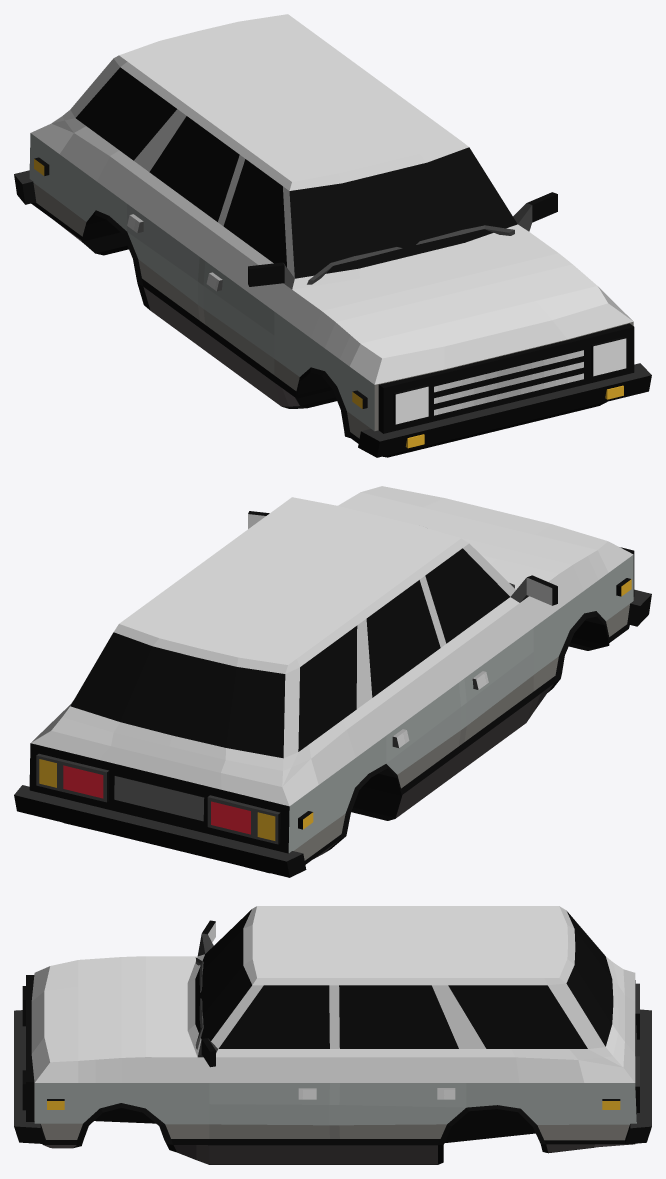
File: StationWagon.fbx
3 renders of one model, top to bottom at view 1: azimuth 30°, elevation 25°; view 2: azimuth 150°, elevation 25°; view 3: azimuth 270°, elevation 25°, orthographic. The views are drawn at different scales.
Parts seen in each view (by area): view 1: StationWagon; view 2: StationWagon; view 3: StationWagon.
Boxes of the visible parts, x1=… form: StationWagon: x1=14, y1=14, x2=651, y2=457; StationWagon: x1=14, y1=486, x2=651, y2=877; StationWagon: x1=14, y1=906, x2=651, y2=1164.
Bounding box in the file's own units: 1.84 × 1.14 × 3.78.
